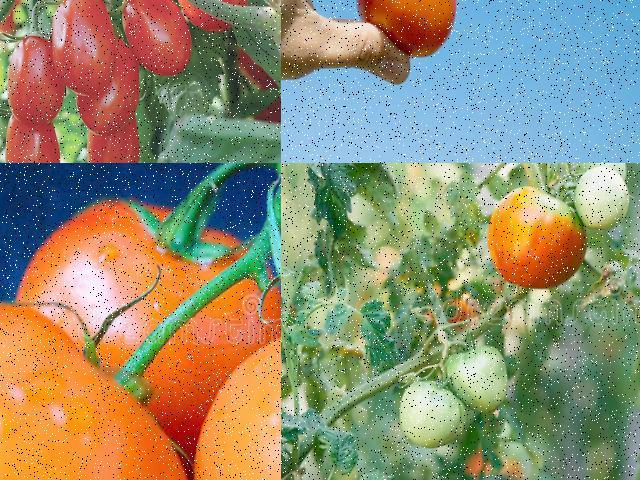tomato: (22, 196, 280, 432), (0, 302, 193, 479), (472, 190, 591, 295), (341, 0, 466, 69), (49, 0, 117, 96), (82, 34, 144, 136), (118, 0, 198, 79), (4, 34, 68, 126), (158, 0, 250, 40), (0, 115, 68, 162), (81, 126, 146, 162)
